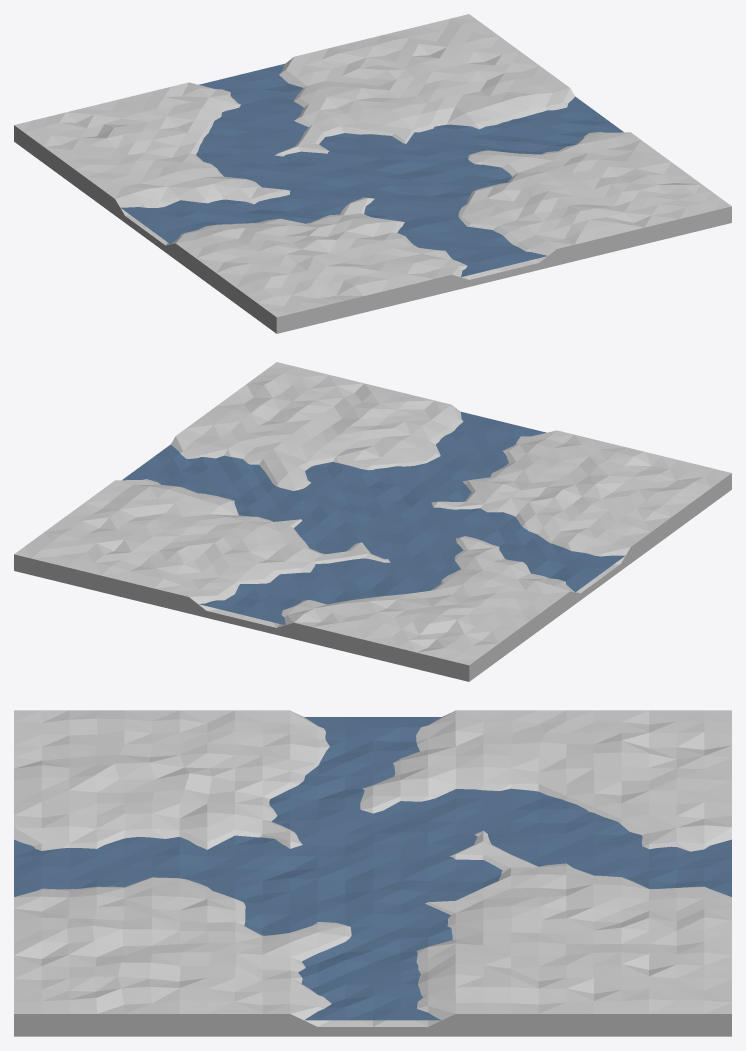
Rendered from WaterCrossingTile.fbx.
3 views of the same model, one above another, from view 1: azimuth 30°, elevation 25°; view 2: azimuth 150°, elevation 25°; view 3: azimuth 270°, elevation 25° (orthographic). The views are drawn at different scales.
Parts seen in each view (by area): view 1: WaterCrossingTile.001; view 2: WaterCrossingTile.001; view 3: WaterCrossingTile.001.
Part boxes in pixels (x1,y1,x2,y2): WaterCrossingTile.001: (14,14,731,333); WaterCrossingTile.001: (14,362,731,681); WaterCrossingTile.001: (14,710,731,1036).
Size of the model in its own units: 1000 by 45.52 by 1000.
